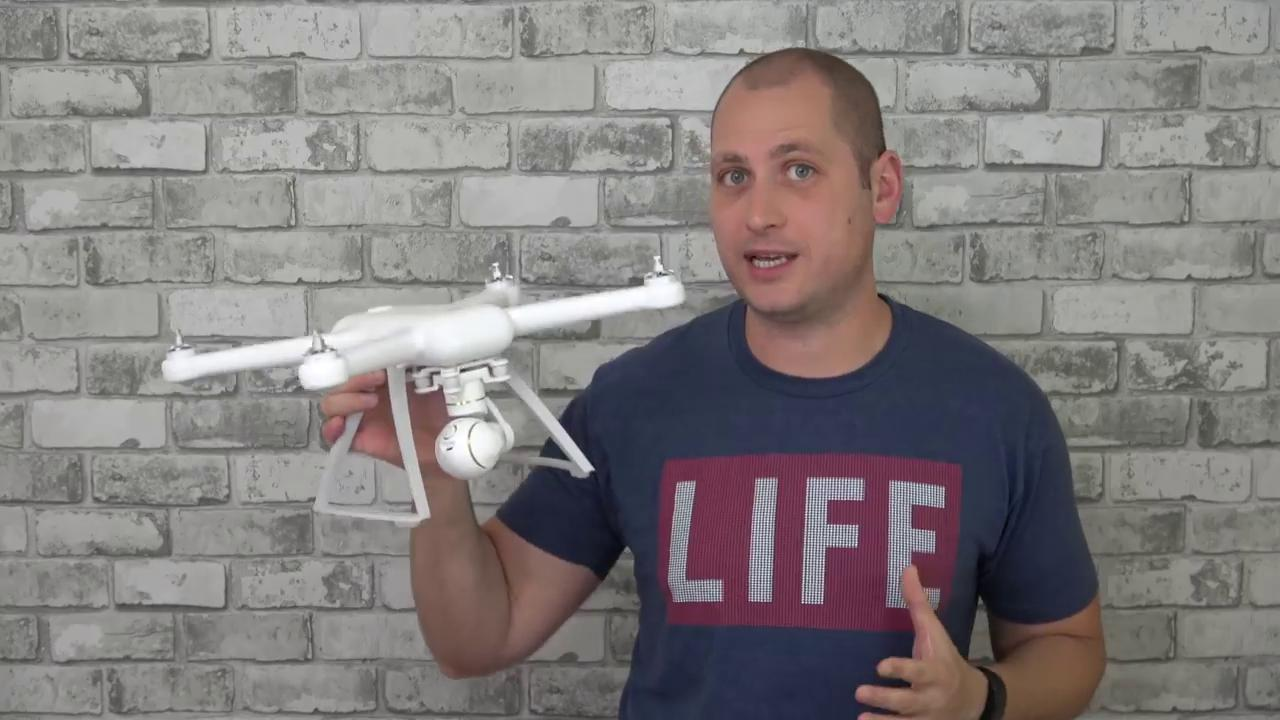drone: (152, 256, 693, 396)
